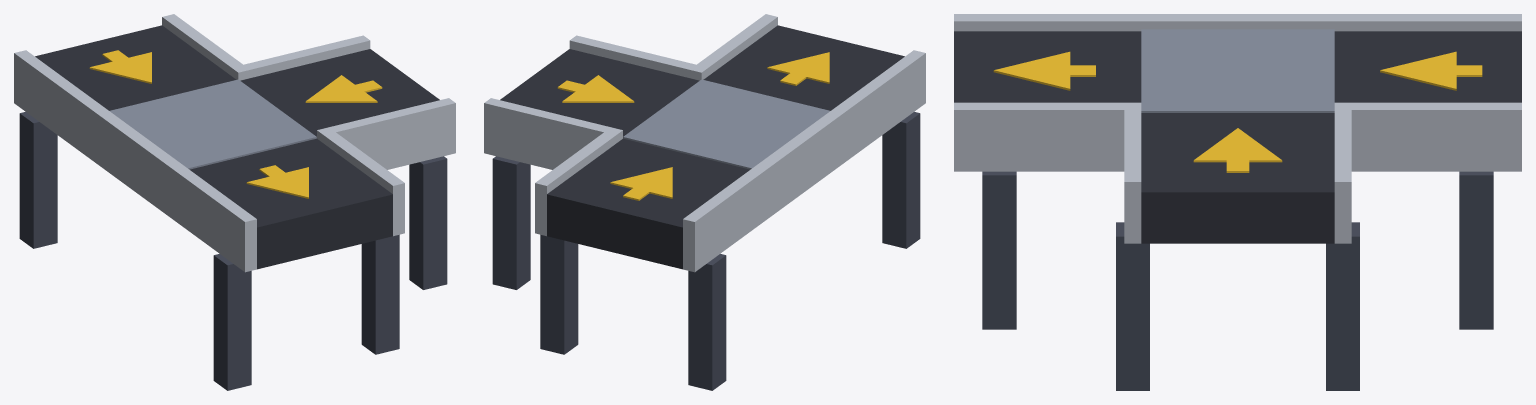
File: conveyor-join-straight-right.glb
3 views of the same model, side by side, from view 1: azimuth 30°, elevation 25°; view 2: azimuth 150°, elevation 25°; view 3: azimuth 270°, elevation 25° (orthographic). The views are drawn at different scales.
Parts seen in each view (by area): view 1: conveyor-join-straight-right; view 2: conveyor-join-straight-right; view 3: conveyor-join-straight-right.
Part boxes in pixels (x1,y1,x2,y2): conveyor-join-straight-right: (14, 14, 455, 390); conveyor-join-straight-right: (484, 14, 925, 390); conveyor-join-straight-right: (954, 14, 1521, 390).
Size of the model in its own units: 0.715 by 0.42 by 1.
Materials: 1 (1 with a texture image).
